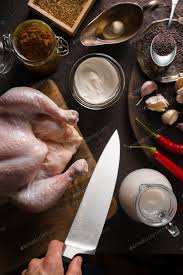Chicken: (3, 91, 85, 199)
